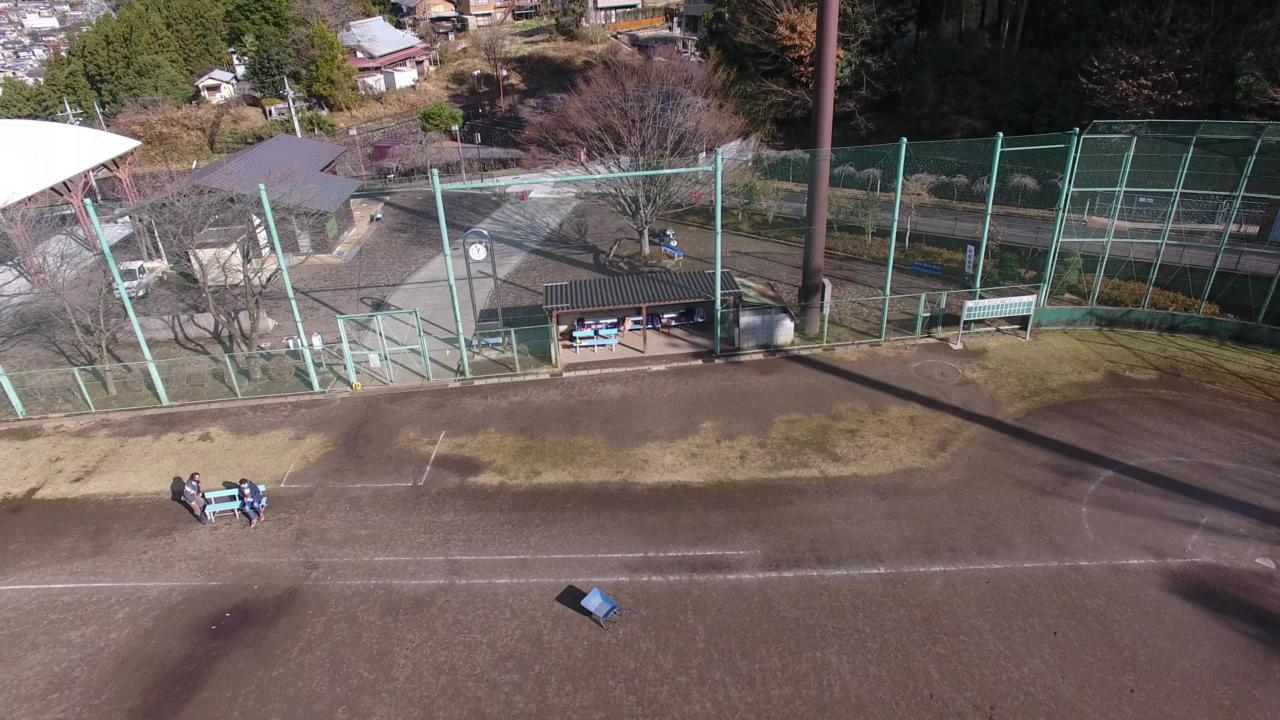person: (169, 469, 208, 523), (238, 476, 273, 527)
